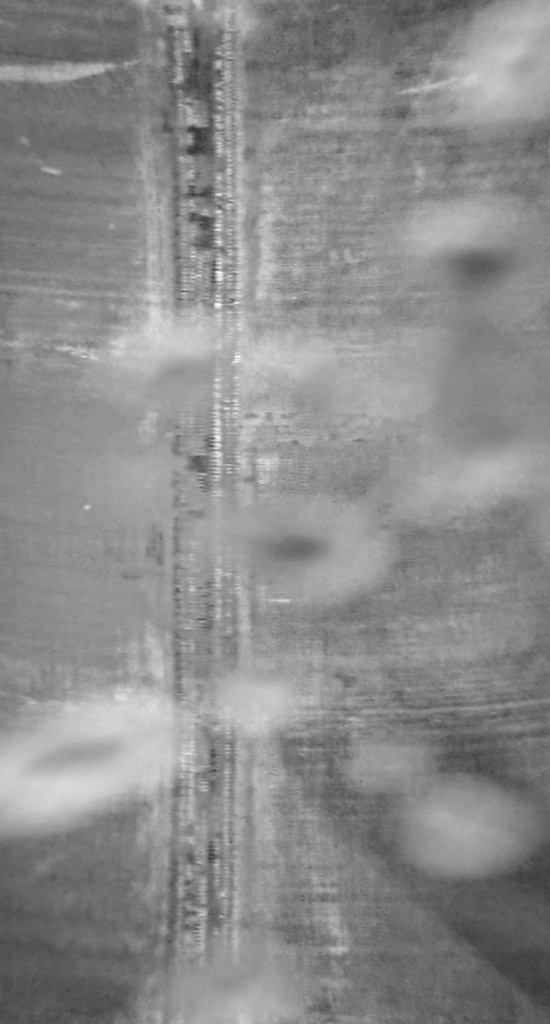splice: (154, 1, 251, 1021)
